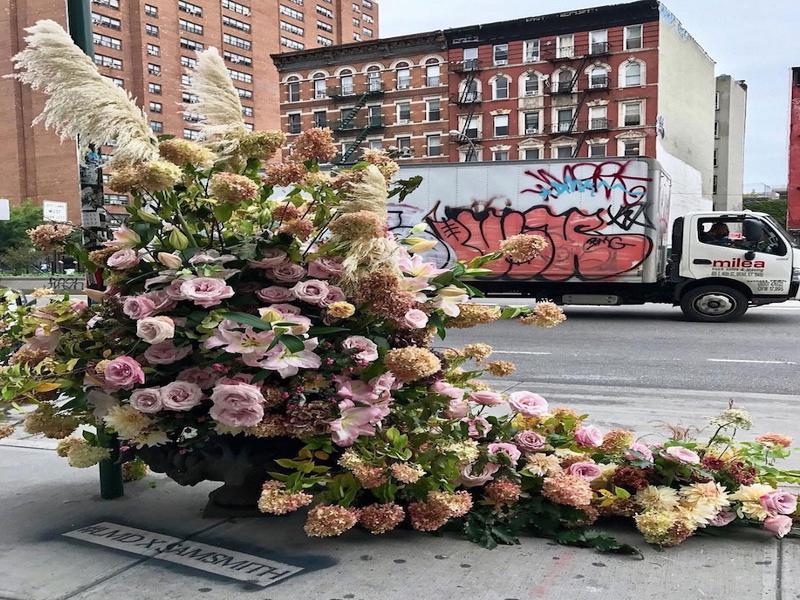flowers: (1, 222, 565, 547), (8, 17, 405, 219), (551, 393, 800, 553)
